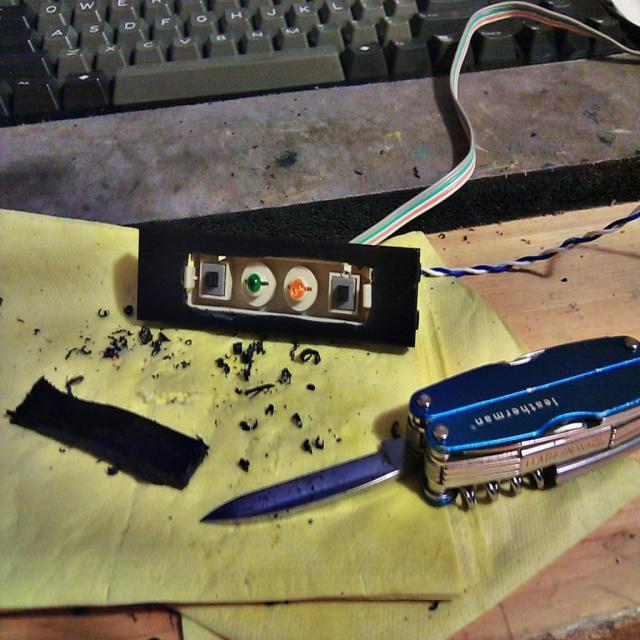Knife: (205, 336, 640, 521)
